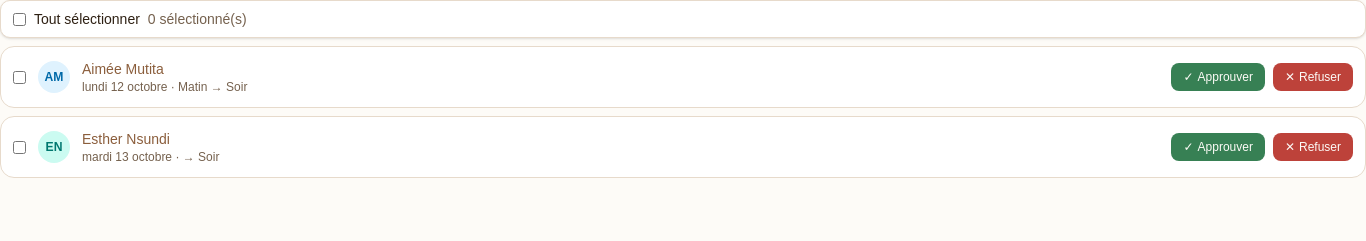
it: ShiftsInbox › une case par demande ; la barre propose Approuver / Refuser pour la sélection
Click the checkbox named "Sélectionner la demande de Aimée Mutita" at (20, 77), box [13,70,26,84]
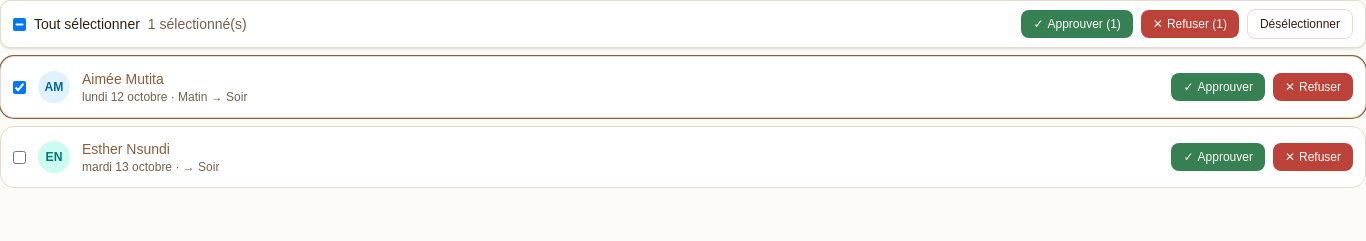
Click the checkbox named "Sélectionner la demande de Esther Nsundi" at (20, 157), box [13,150,26,164]
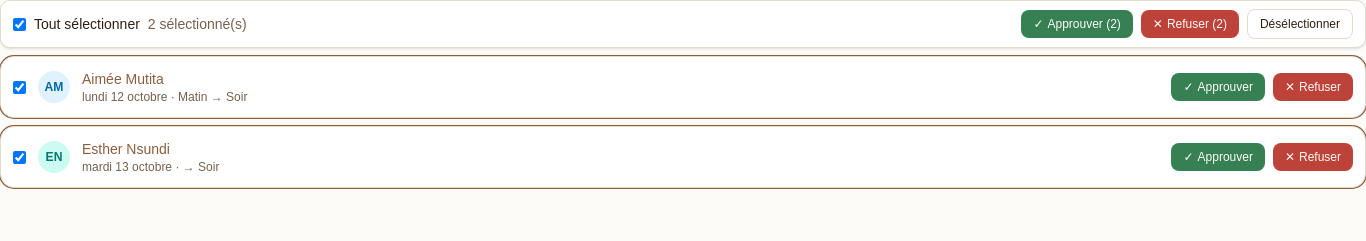
Click the button "✓ Approuver (2)" at (1077, 24), box [1021,10,1133,38]
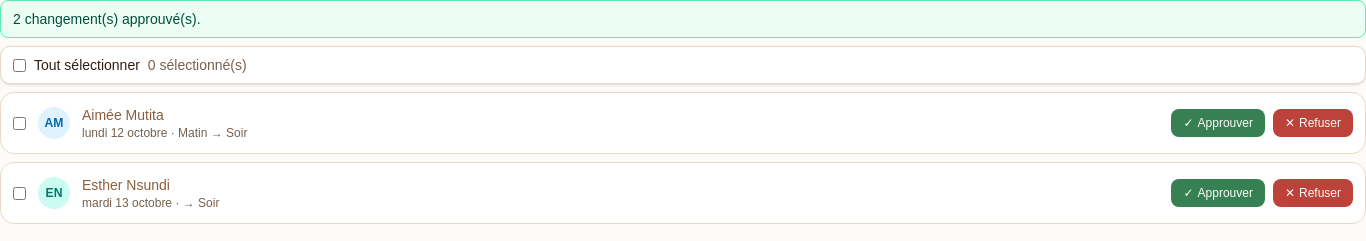
Check: the message "2 changement(s) approuvé(s)." is shown, box [0,0,1365,38]
